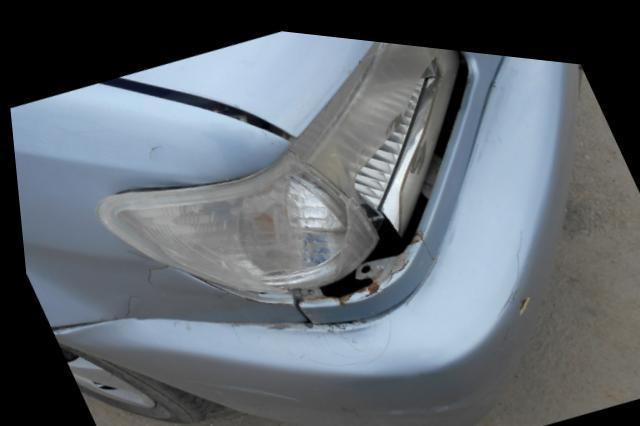lamp broken: (91, 33, 464, 289)
